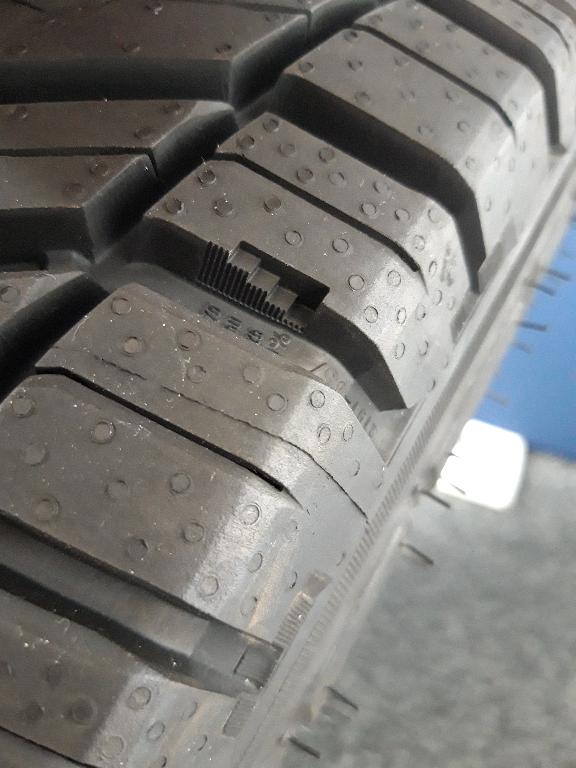temoin:100: (194, 236, 332, 339)
